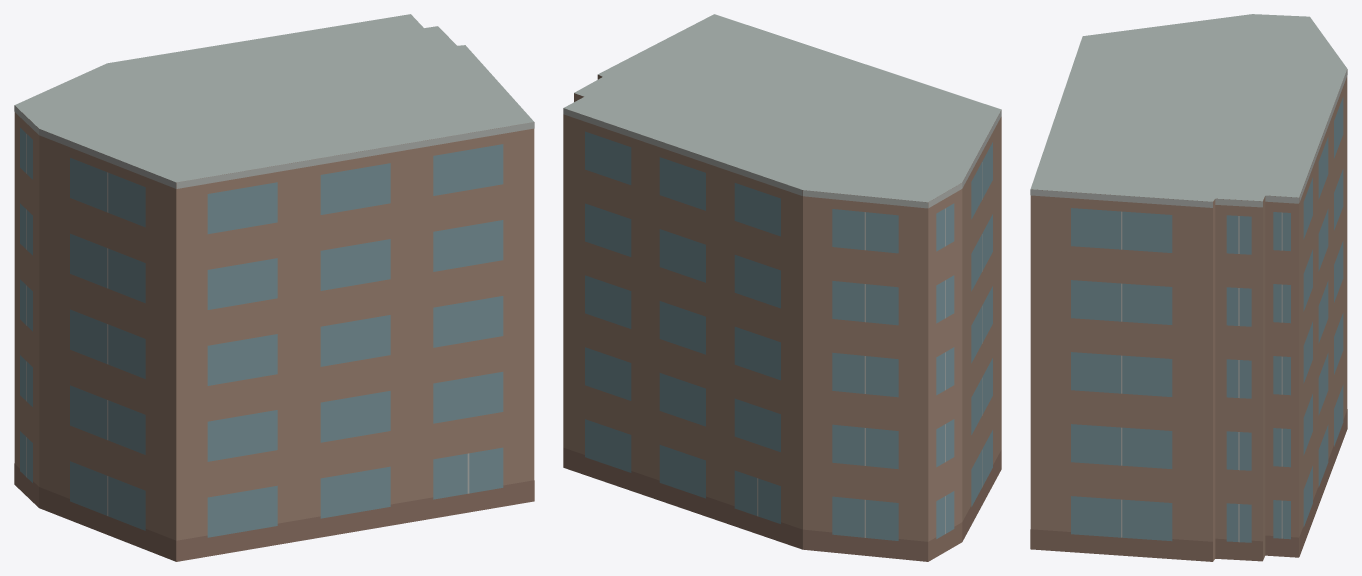
File: survey-upis-32762601.glb
3 renders of one model, left to right at view 1: azimuth 30°, elevation 25°; view 2: azimuth 150°, elevation 25°; view 3: azimuth 270°, elevation 25°, orthographic. The views are drawn at different scales.
Visible parts, largest first — view 1: survey-upis-32762601.tmp; view 2: survey-upis-32762601.tmp; view 3: survey-upis-32762601.tmp.
Part boxes in pixels (x1,y1,x2,y2): survey-upis-32762601.tmp: (14,14,534,561); survey-upis-32762601.tmp: (563,14,1001,561); survey-upis-32762601.tmp: (1030,14,1347,561).
Bounding box in the file's own units: 15.84 × 14.15 × 11.3.
